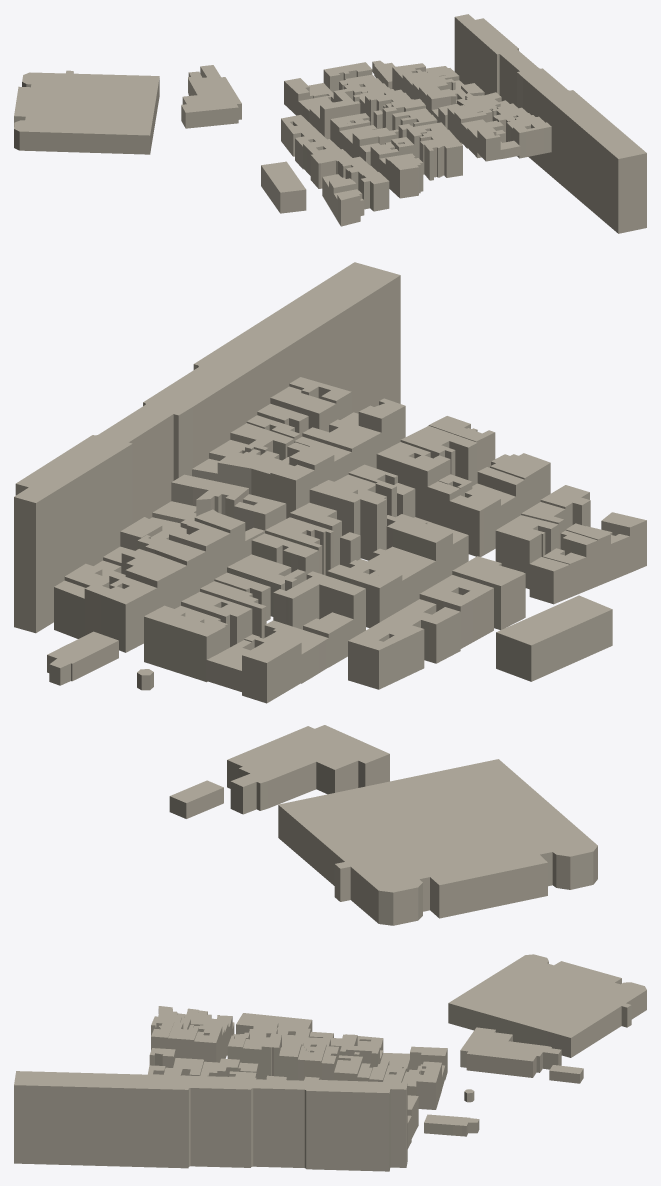
File: senglea_59_29_mid.glb
3 views of the same model, one above another, from view 1: azimuth 30°, elevation 25°; view 2: azimuth 150°, elevation 25°; view 3: azimuth 270°, elevation 25° (orthographic). The views are drawn at different scales.
Parts seen in each view (by area): view 1: geometry_0; view 2: geometry_0; view 3: geometry_0.
Boxes of the visible parts, x1=… form: geometry_0: x1=14, y1=14, x2=646, y2=233; geometry_0: x1=14, y1=262, x2=646, y2=925; geometry_0: x1=14, y1=954, x2=646, y2=1171.
Size of the model in its own units: 207 by 40.64 by 270.
